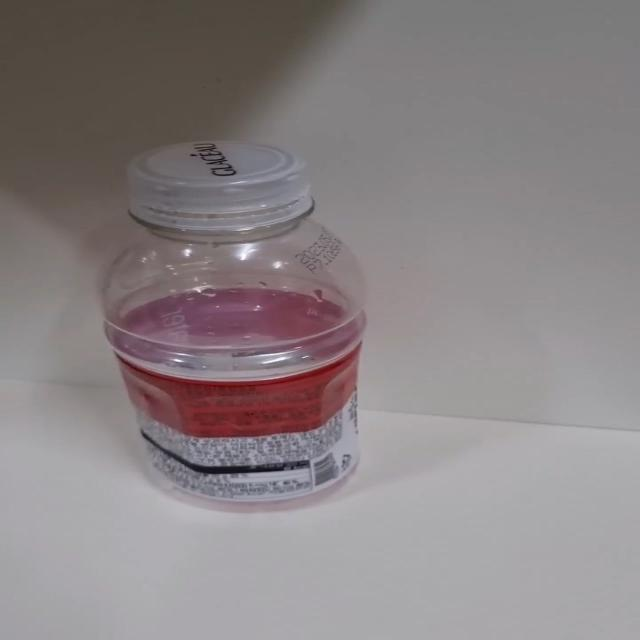Plastic: (96, 140, 368, 512)
